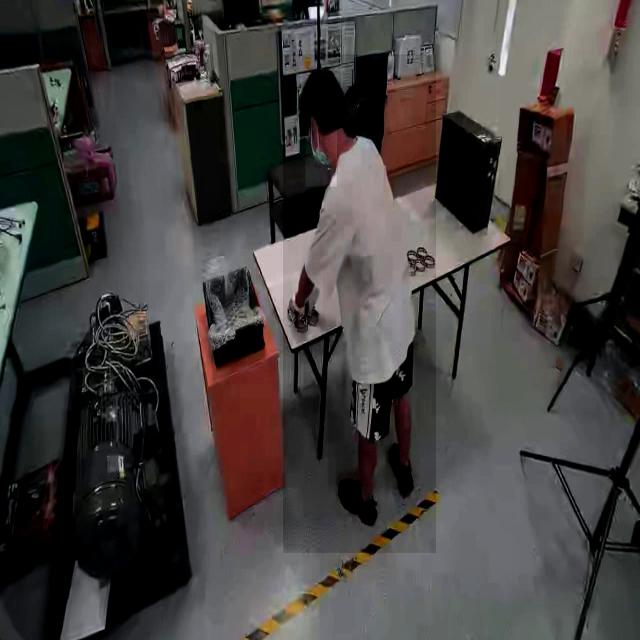face_mask: (305, 113, 337, 187)
hand_glove: (293, 275, 323, 329)
head_nohelmet: (300, 66, 350, 105)
person: (282, 54, 436, 554)
shoes: (333, 472, 382, 527), (387, 441, 415, 501)
